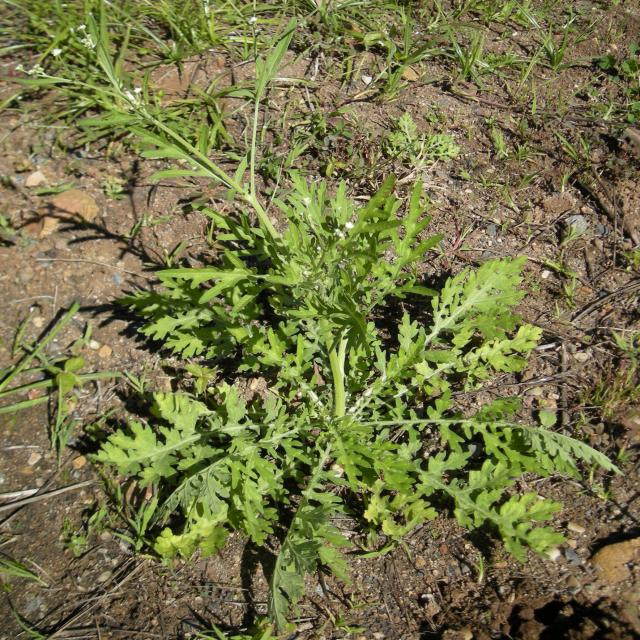Poisonous-Parthenium: (74, 100, 606, 586)
